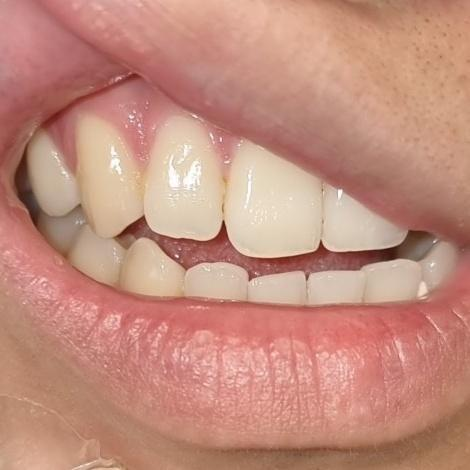Healthy: (142, 122, 319, 250), (28, 113, 145, 239), (248, 269, 365, 310)
